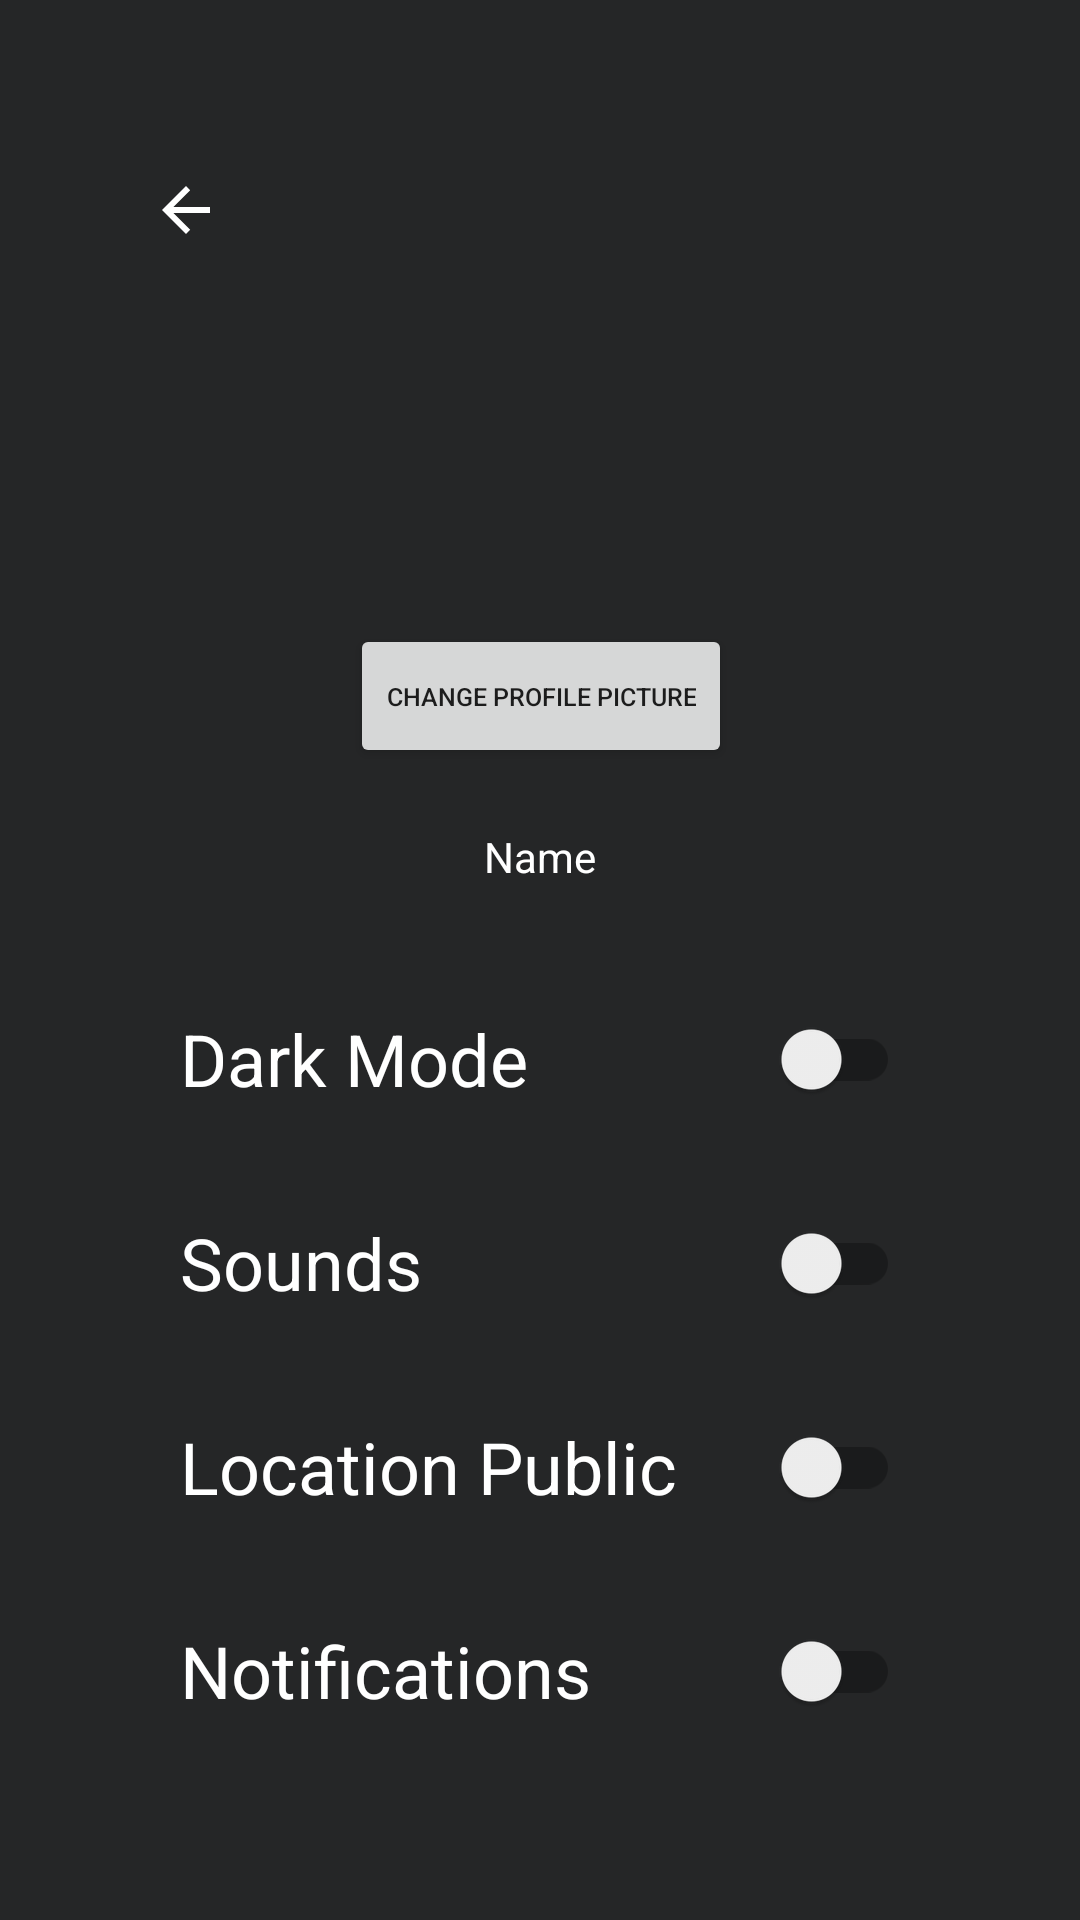

Icons on this 1080*1920 Android screen, each with the point to tap as (x,y):
Back Button: (186,210)
